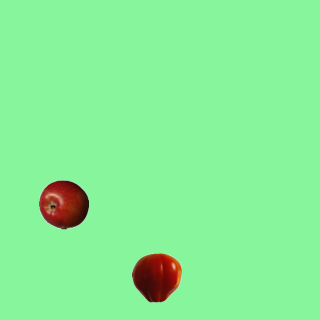Apple Braeburn: (38, 179, 88, 229)
Tomato 1: (131, 252, 181, 302)
